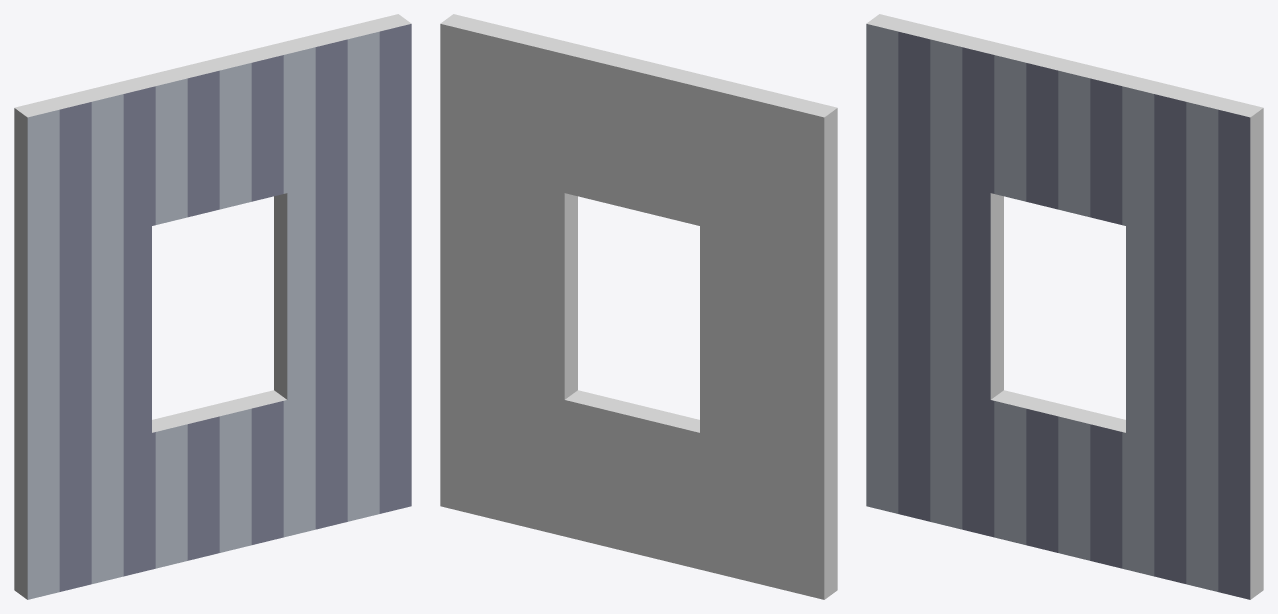
File: Wall1_C8_03.fbx
3 views of the same model, side by side, from view 1: azimuth 30°, elevation 25°; view 2: azimuth 150°, elevation 25°; view 3: azimuth 330°, elevation 25° (orthographic).
Parts seen in each view (by area): view 1: Wall1_C8_03; view 2: Wall1_C8_03; view 3: Wall1_C8_03.
Boxes of the visible parts, bbox=[...] form: Wall1_C8_03: bbox=[14, 14, 411, 599]; Wall1_C8_03: bbox=[440, 14, 837, 599]; Wall1_C8_03: bbox=[866, 14, 1263, 599].
Bounding box in the file's own units: 250 × 300 × 15.
